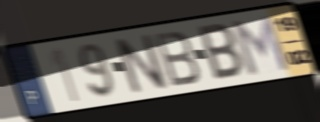1: (49, 45, 82, 106)
9: (79, 41, 117, 101)
B: (151, 28, 203, 89), (196, 22, 246, 84)
M: (226, 12, 293, 77)
N: (110, 32, 172, 96)
